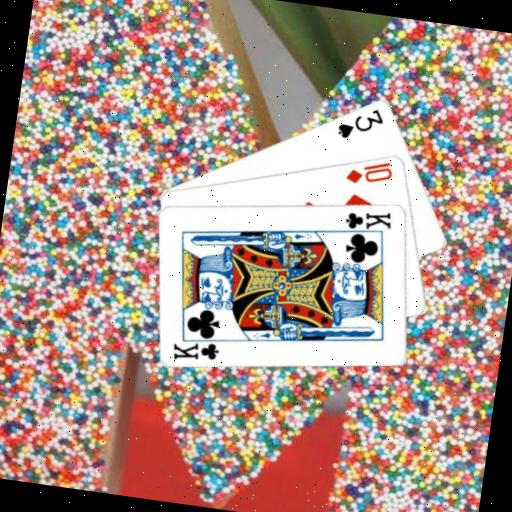10D: (343, 153, 397, 190)
3S: (334, 100, 387, 145)
KC: (169, 329, 227, 368), (338, 203, 395, 242)
